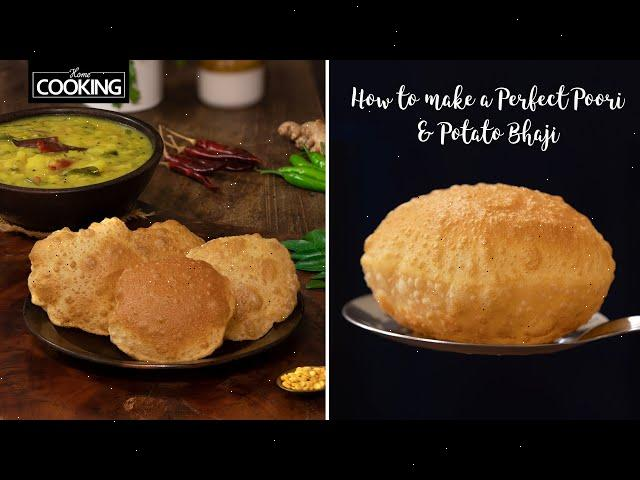puri: (368, 184, 616, 368), (45, 219, 306, 363)
